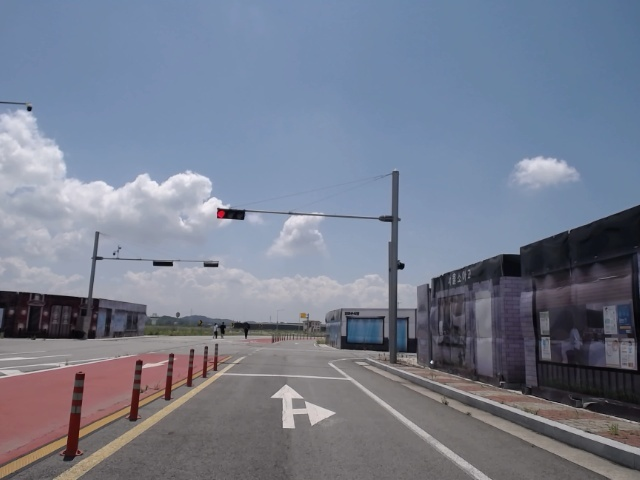red_3: (216, 207, 246, 221)
